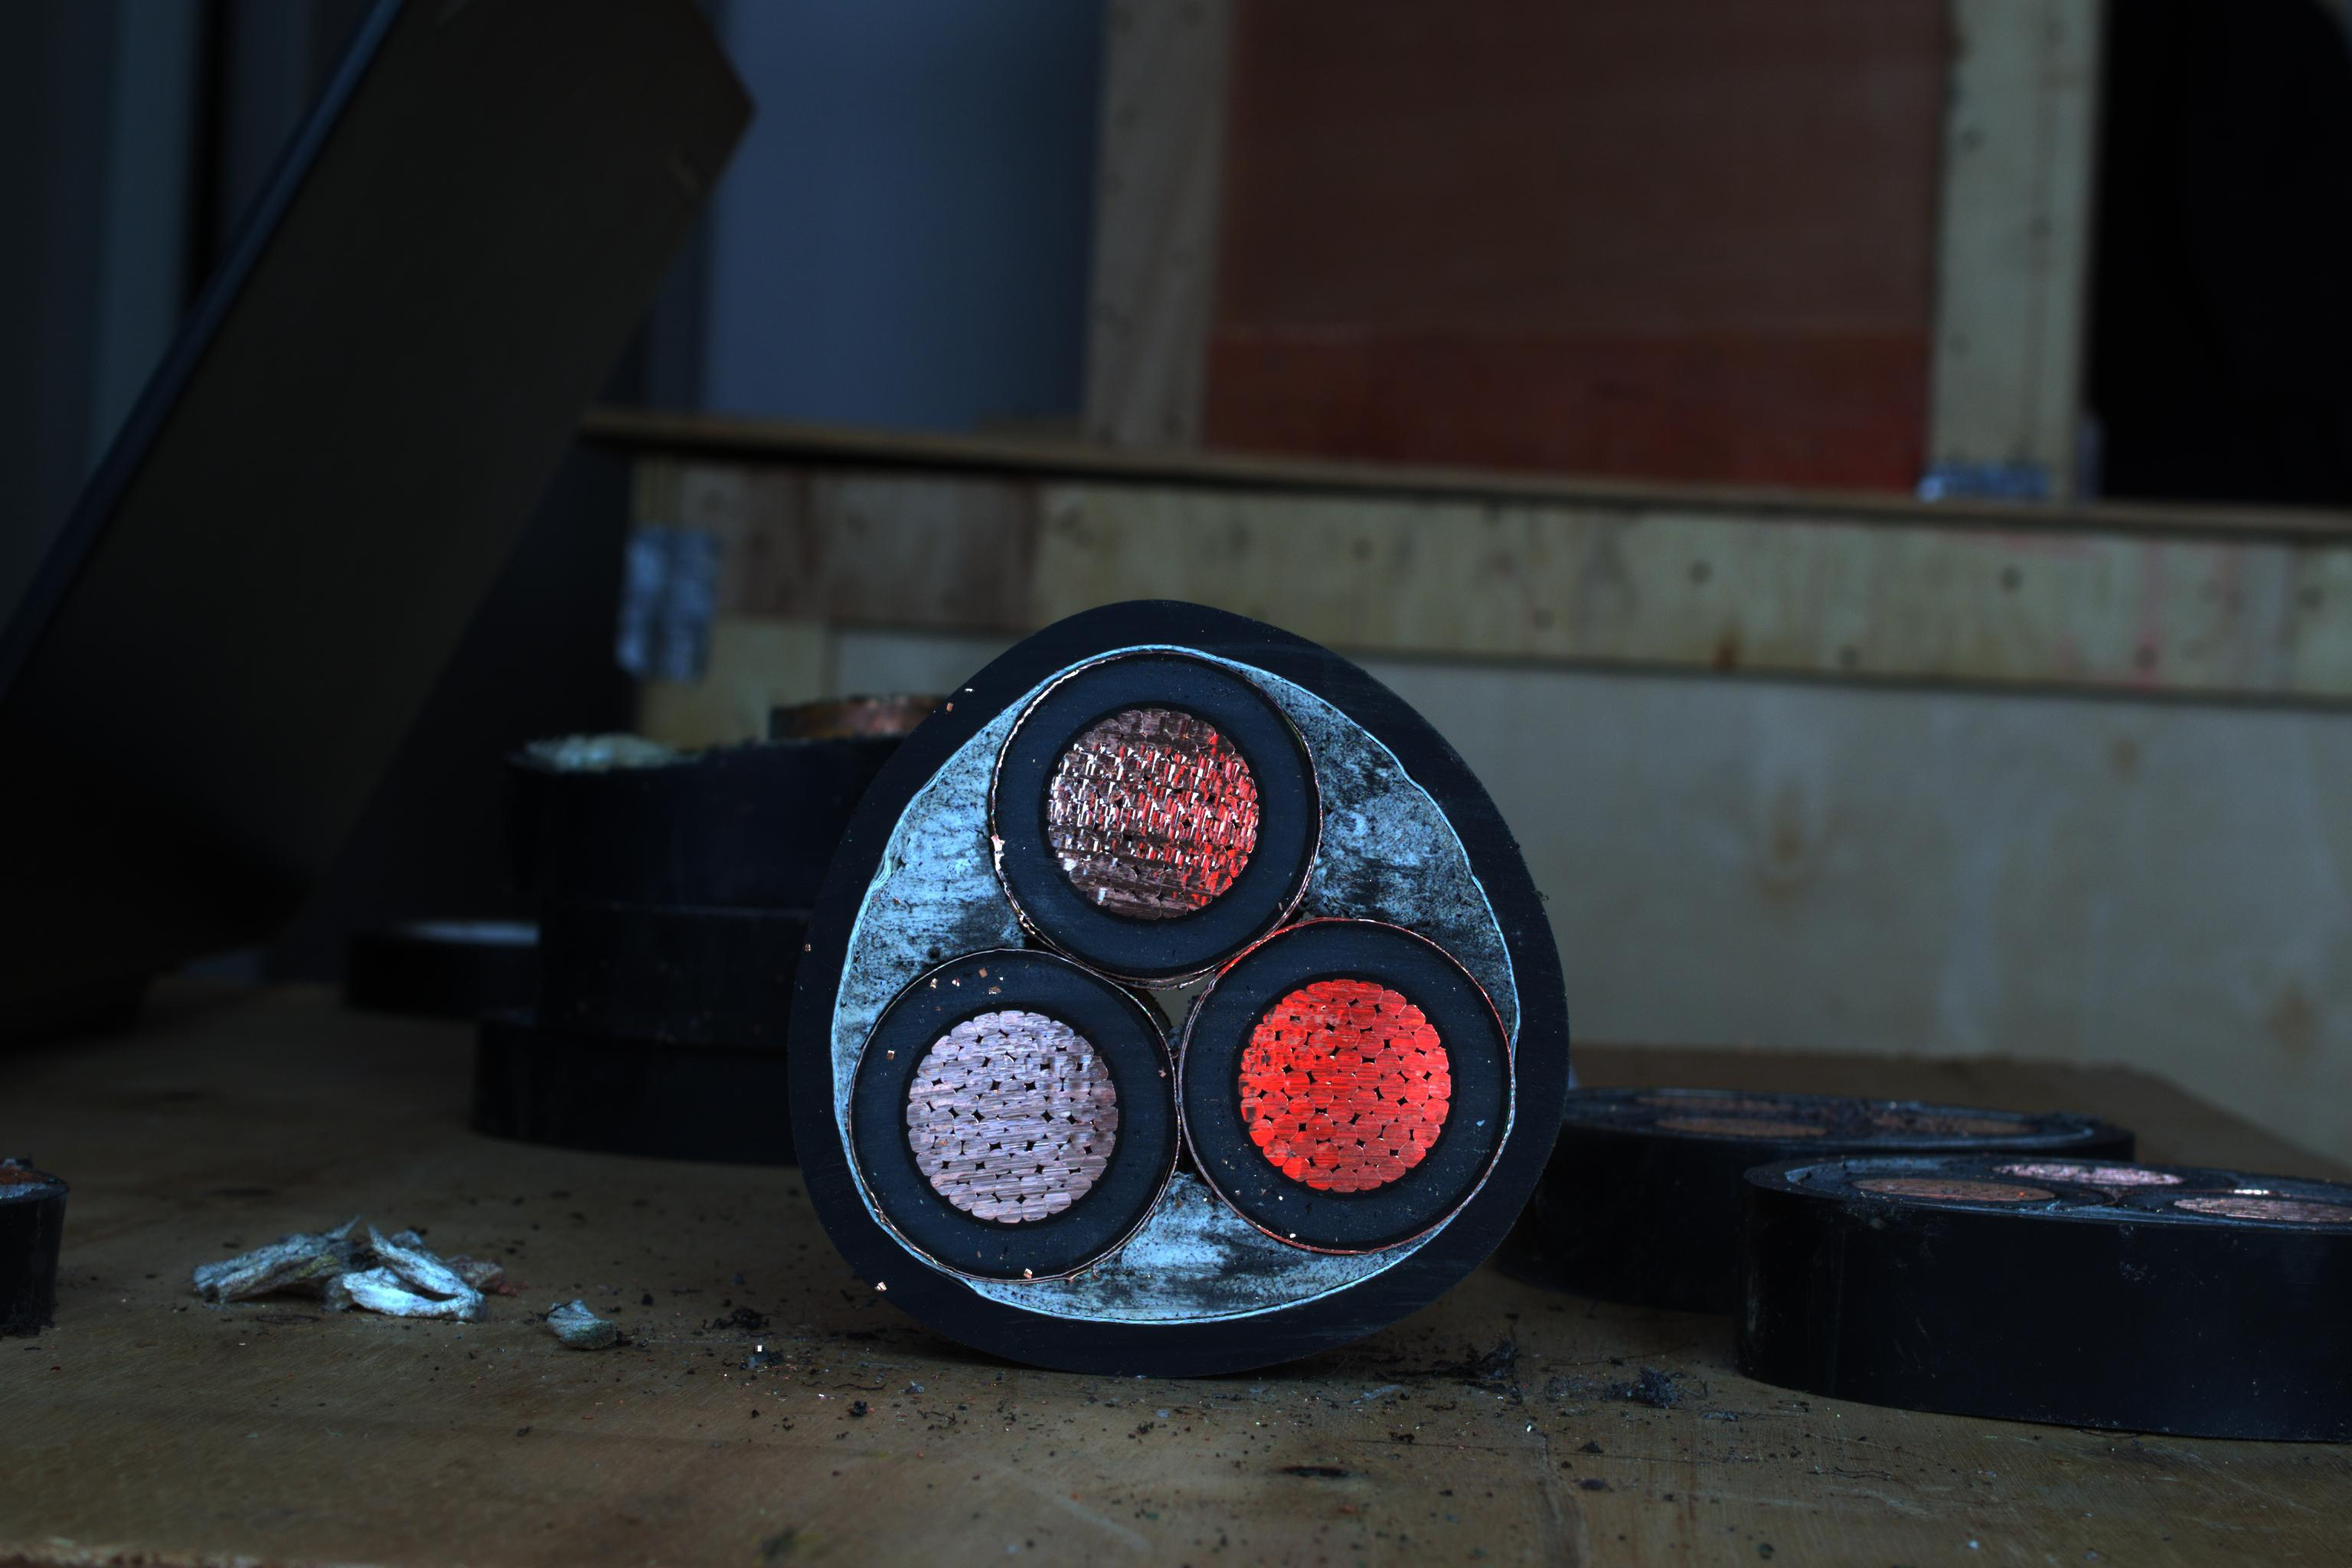ZA_YJV_8.7_10kV_3x400: (780, 612, 1557, 1354)
